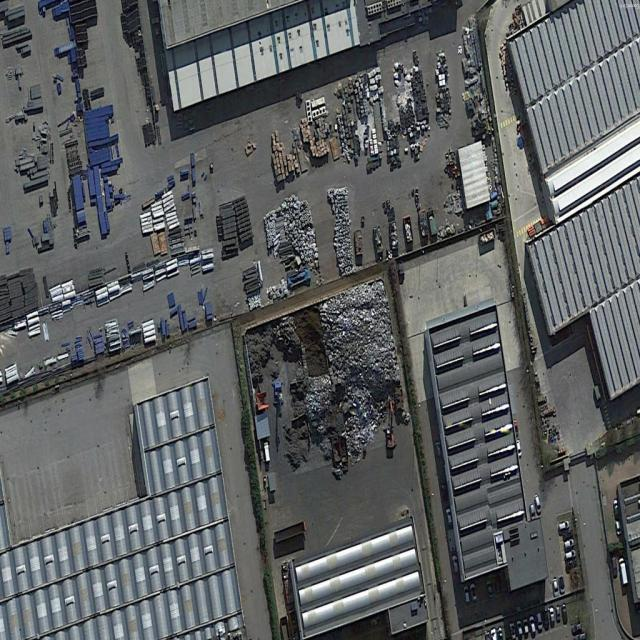dump_site: (317, 278, 410, 465)
